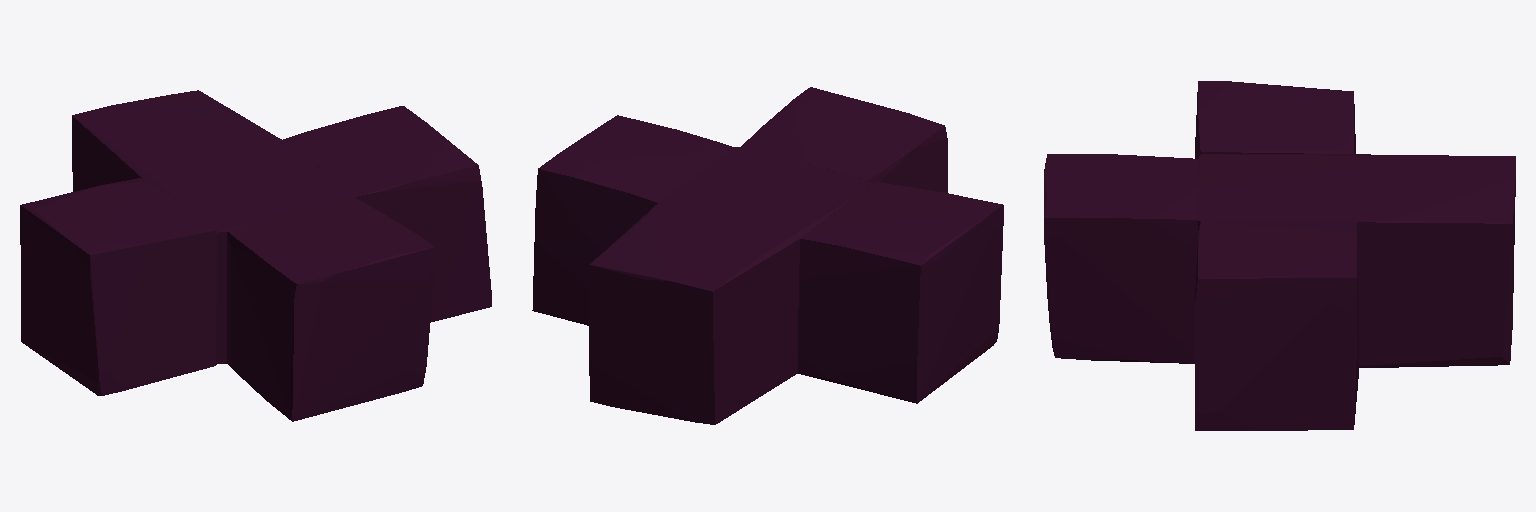
robot.urdf — blob943:
<robot name="blob943">
  <link name="random_obj_943">
    <contact>
      <lateral_friction value="1.0"/>
      <rolling_friction value="0.0"/>
      <inertia_scaling value="3.0"/>
      <contact_cfm value="0.0"/>
      <contact_erp value="1.0"/>
    </contact>
    <inertial>
      <origin rpy="0 0 0" xyz="0 0 0"/>
      <mass value="0.1"/>
      <inertia ixx="1" ixy="0" ixz="0" iyy="1" iyz="0" izz="0"/>
    </inertial>
    <visual>
      <origin rpy="0 0 0" xyz="0 0 0"/>
      <geometry>
        <mesh filename="943.obj" scale="0.015 0.015 0.015"/>
      </geometry>
      <material name="blockmat">
        <color rgba="0.24 0.09 0.20 1"/>
      </material>
    </visual>
    <collision>
      <origin rpy="0 0 0" xyz="0 0 0"/>
      <geometry>
        <mesh filename="943.obj" scale="0.015 0.015 0.015"/>
      </geometry>
    </collision>
  </link>
</robot>

--- Facts derived from the render (not from the file) ---
The picture shows the robot from 3 angles, left to right: view 1: azimuth 30°, elevation 25°; view 2: azimuth 150°, elevation 25°; view 3: azimuth 270°, elevation 25°; orthographic projection.
Model blob943 with 1 links and 0 joints (none), rooted at random_obj_943, posed every joint at zero.
Links seen in each view (by area): view 1: random_obj_943; view 2: random_obj_943; view 3: random_obj_943.
Boxes of the visible links, x1,y1,x2,y2 form: random_obj_943: (20, 90, 491, 421); random_obj_943: (532, 87, 1003, 424); random_obj_943: (1044, 81, 1515, 430).
Bounding box of the posed robot: 0.0928 × 0.0928 × 0.0334 m (x, y, z).
Meshes: 1 distinct files referenced, 1 mesh visuals loaded (1 OBJ).